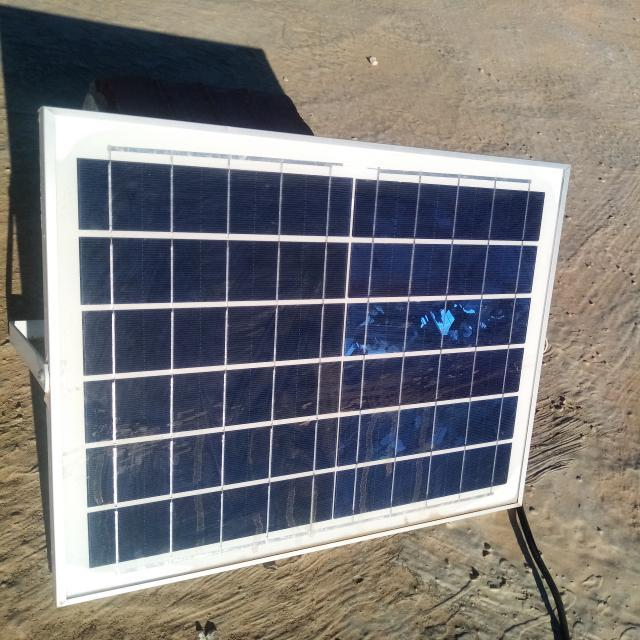no faulty: (49, 111, 572, 603)
